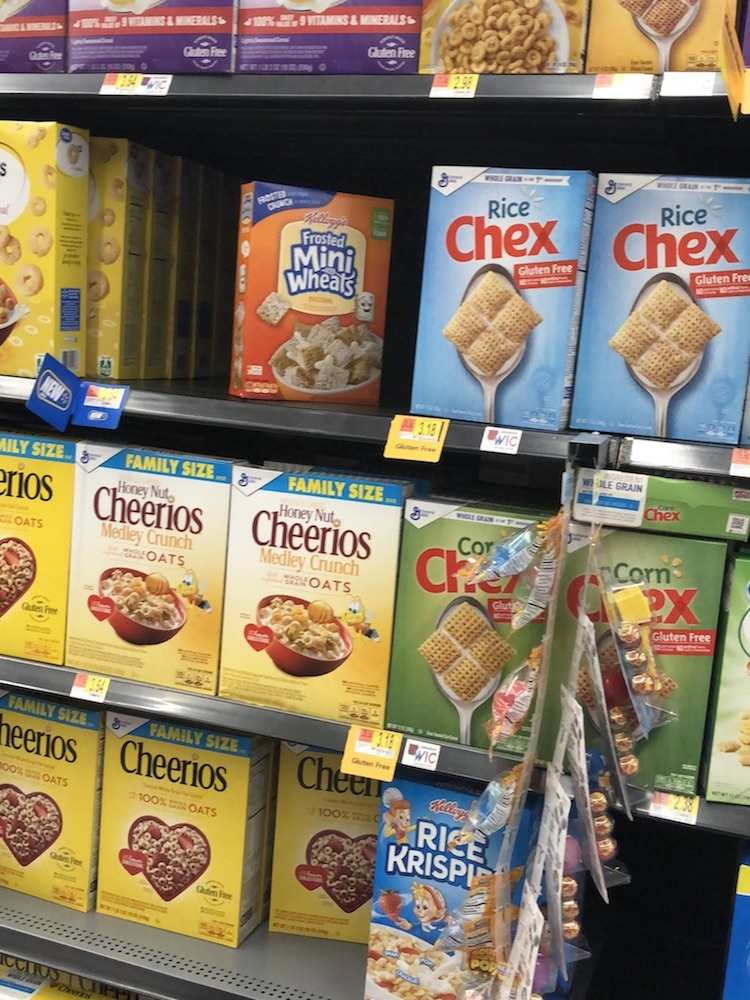Frosted Mini Original -9295869: (246, 184, 387, 409)
